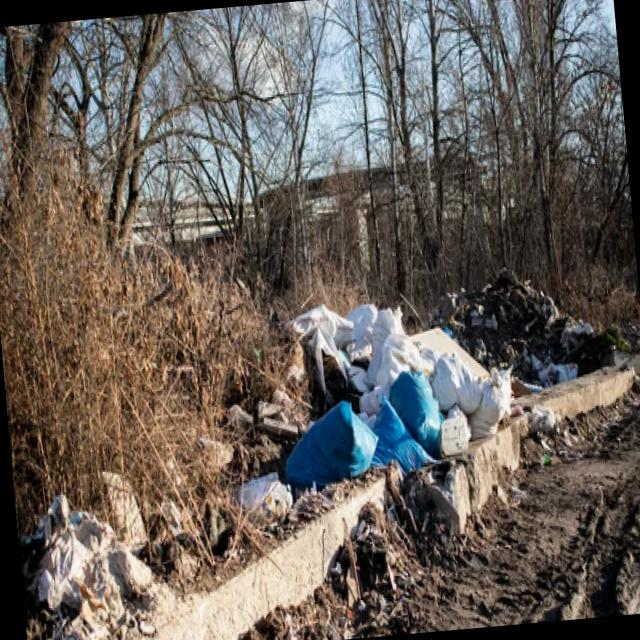garbage: (212, 238, 580, 572)
